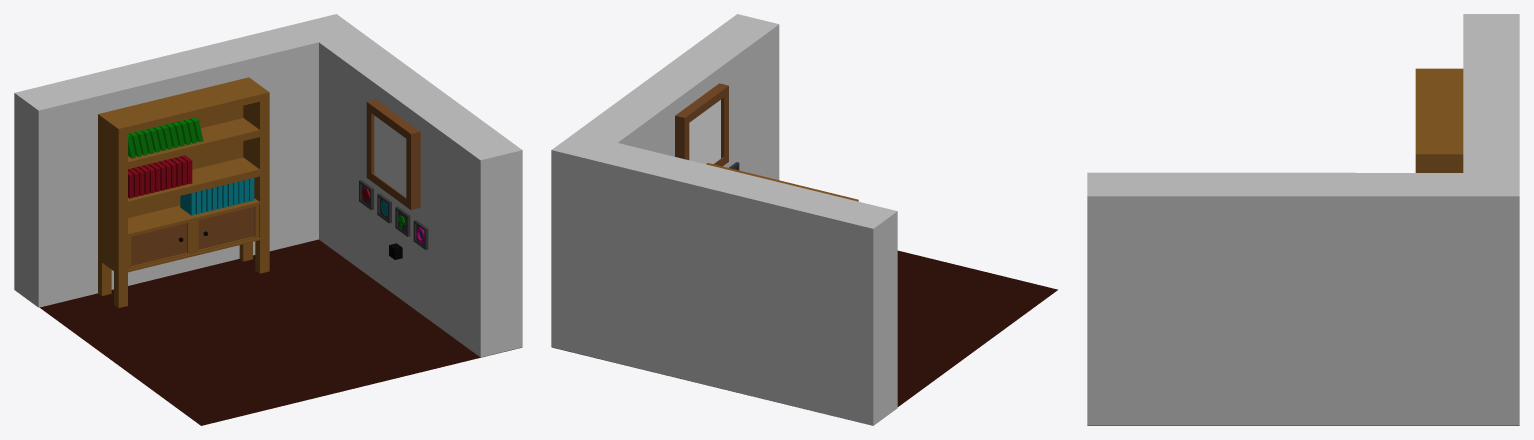
File: Corner 2.fbx
The picture shows the model from 3 angles, left to right: view 1: azimuth 30°, elevation 25°; view 2: azimuth 150°, elevation 25°; view 3: azimuth 270°, elevation 25°; orthographic projection. The views are drawn at different scales.
Parts seen in each view (by area): view 1: Cube.059, Plane.004, Cube.066, Cube.072, Cube.068, Cube.067, Cube.073, Cube.069, Cube.071, Cube.060, Cube.062, Cube.070 (+1 smaller); view 2: Cube.059, Plane.004, Cube.072, Cube.073; view 3: Cube.059, Cube.066, Plane.004.
Part boxes in pixels (box(x1,y1,x2,y2)): Cube.059: box(14, 14, 522, 357); Plane.004: box(40, 239, 521, 425); Cube.066: box(98, 77, 269, 308); Cube.072: box(366, 99, 420, 209); Cube.068: box(128, 157, 259, 208); Cube.067: box(128, 118, 259, 168); Cube.073: box(374, 115, 406, 197); Cube.069: box(128, 155, 192, 198); Cube.071: box(128, 117, 203, 158); Cube.060: box(131, 223, 187, 266); Cube.062: box(198, 206, 254, 249); Cube.070: box(180, 178, 254, 215); Cube.059: box(551, 14, 897, 425); Plane.004: box(552, 250, 1057, 406); Cube.072: box(675, 83, 728, 166); Cube.073: box(689, 100, 720, 164); Cube.059: box(1087, 14, 1519, 425); Cube.066: box(1415, 68, 1463, 172); Plane.004: box(1087, 425, 1519, 425).
Bounding box in the file's own units: 885 × 523 × 886.
